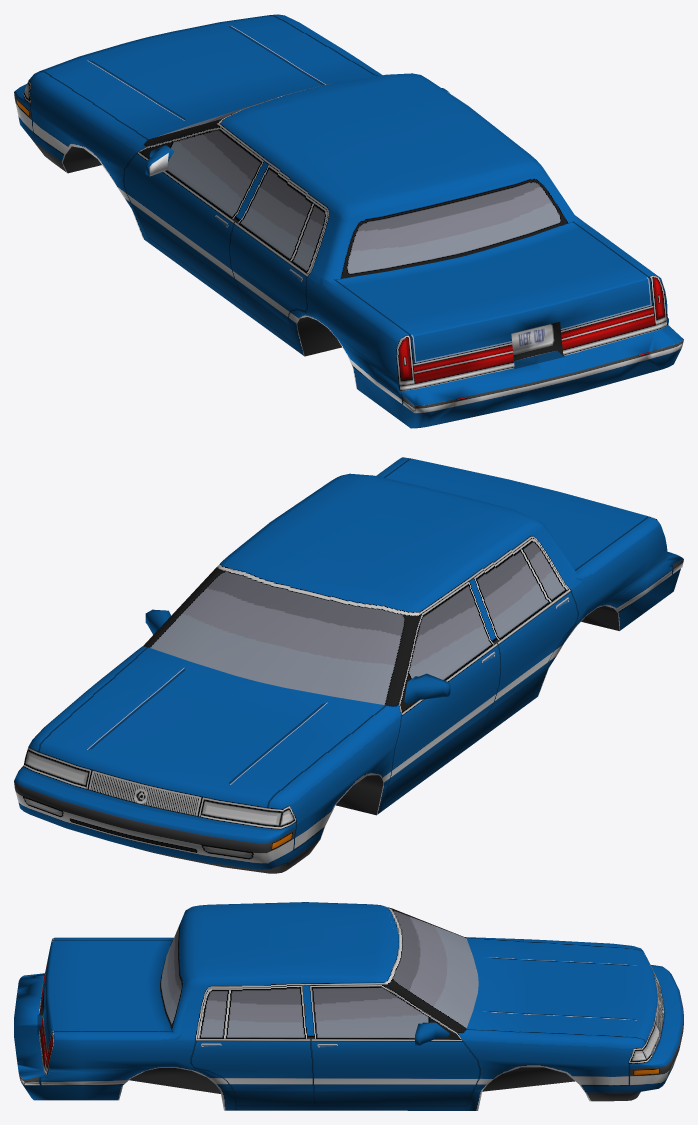
The model's file is 90ninetyeight.fbx.
3 renders of one model, top to bottom at view 1: azimuth 30°, elevation 25°; view 2: azimuth 150°, elevation 25°; view 3: azimuth 270°, elevation 25°, orthographic. The views are drawn at different scales.
Visible parts, largest first — view 1: 90ninetyeight; view 2: 90ninetyeight; view 3: 90ninetyeight.
Part boxes in pixels (x1,y1,x2,y2): 90ninetyeight: (14, 14, 683, 428); 90ninetyeight: (14, 457, 683, 873); 90ninetyeight: (14, 902, 683, 1110).
Size of the model in its own units: 2.08 by 1.08 by 5.08.
